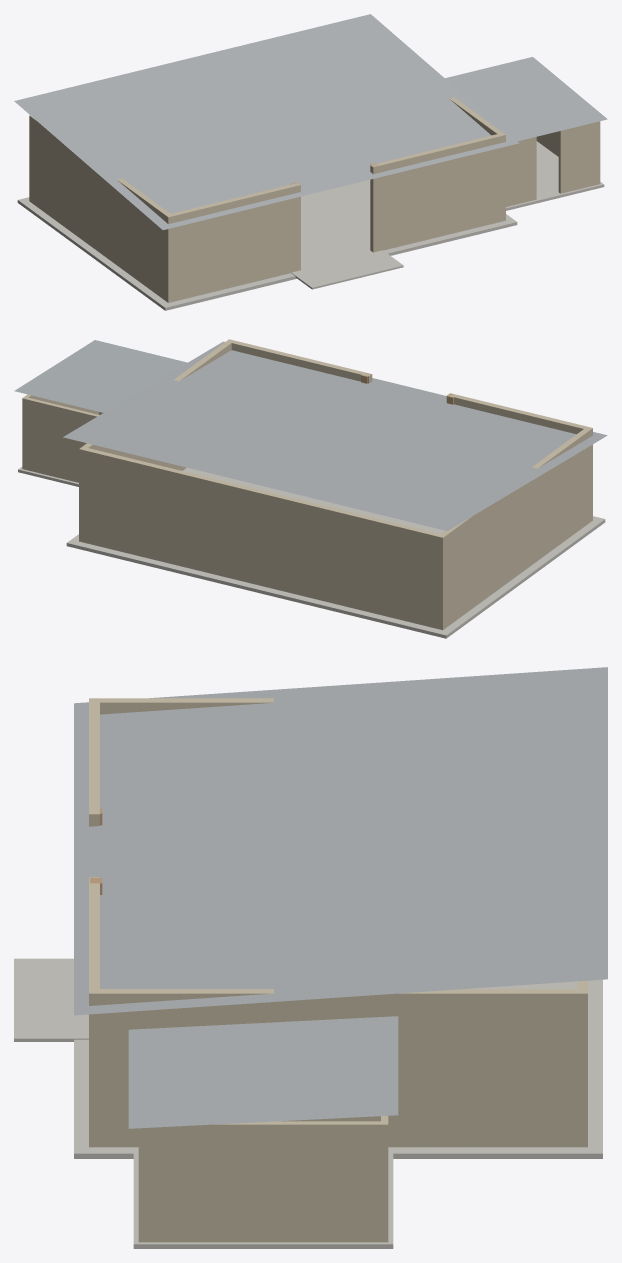
The model's file is livestock-dairy.lod1.glb.
The picture shows the model from 3 angles, top to bottom: view 1: azimuth 30°, elevation 25°; view 2: azimuth 150°, elevation 25°; view 3: azimuth 270°, elevation 25°; orthographic projection. The views are drawn at different scales.
Bounding box in the file's own units: 19.1 × 4.02 × 11.9.
